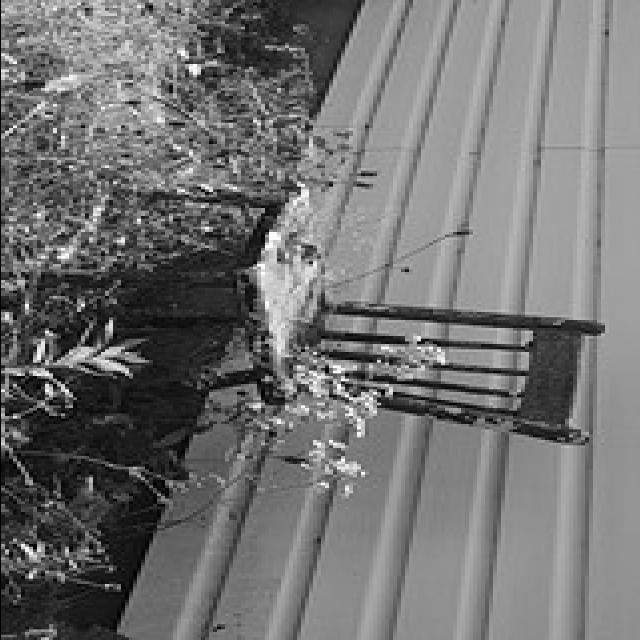chair: (39, 186, 607, 444)
